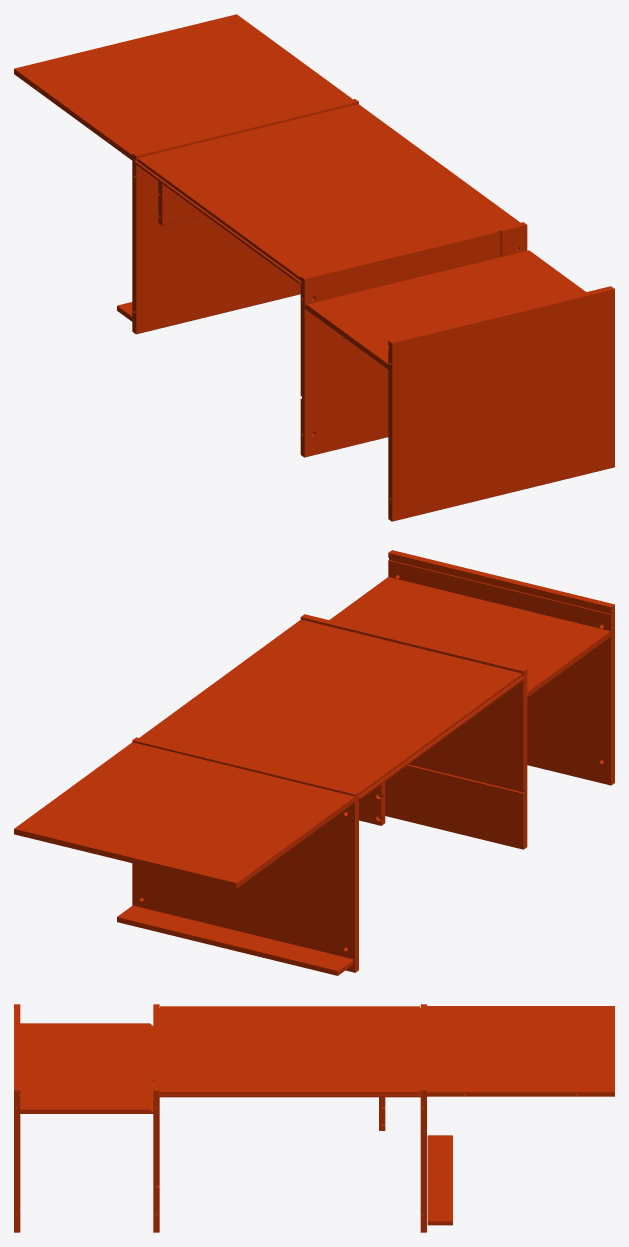
File: NYCOIFH238.fbx
3 renders of one model, top to bottom at view 1: azimuth 30°, elevation 25°; view 2: azimuth 150°, elevation 25°; view 3: azimuth 270°, elevation 25°, orthographic. The views are drawn at different scales.
Parts seen in each view (by area): view 1: Body9, Body7, Body6, Body12, Body8, Body3, Body2; view 2: Body7, Body6, Body8, Body12, Body9, Body3, Body4, Body2; view 3: Body7, Body6, Body3, Body4, Body9, Body12, Body8.
Boxes of the visible parts, x1=… form: Body9: x1=388, y1=286, x2=614, y2=521; Body7: x1=134, y1=104, x2=520, y2=284; Body6: x1=14, y1=14, x2=352, y2=160; Body12: x1=300, y1=222, x2=527, y2=457; Body8: x1=132, y1=99, x2=358, y2=334; Body3: x1=304, y1=250, x2=585, y2=369; Body2: x1=158, y1=181, x2=204, y2=225; Body7: x1=139, y1=619, x2=525, y2=799; Body6: x1=14, y1=742, x2=354, y2=888; Body8: x1=132, y1=737, x2=358, y2=972; Body12: x1=300, y1=614, x2=527, y2=849; Body9: x1=388, y1=550, x2=614, y2=785; Body3: x1=329, y1=577, x2=610, y2=697; Body4: x1=117, y1=905, x2=353, y2=975; Body2: x1=359, y1=781, x2=385, y2=825; Body7: x1=158, y1=1006, x2=421, y2=1097; Body6: x1=427, y1=1006, x2=614, y2=1096; Body3: x1=20, y1=1023, x2=153, y2=1113; Body4: x1=427, y1=1135, x2=452, y2=1225; Body9: x1=14, y1=1004, x2=20, y2=1232; Body12: x1=153, y1=1004, x2=159, y2=1232; Body8: x1=420, y1=1004, x2=426, y2=1232.
Bounding box in the file's own units: 819 × 620 × 2381.
